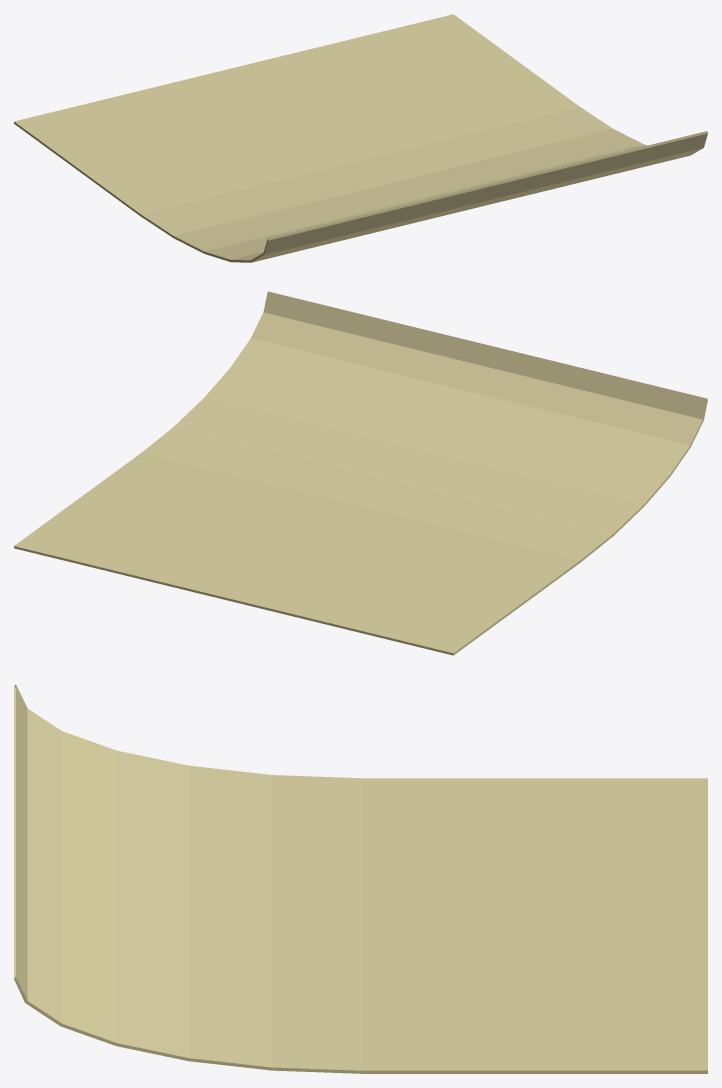
Rendered from note2.fbx.
The picture shows the model from 3 angles, top to bottom: view 1: azimuth 30°, elevation 25°; view 2: azimuth 150°, elevation 25°; view 3: azimuth 270°, elevation 25°; orthographic projection. The views are drawn at different scales.
Parts seen in each view (by area): view 1: Plane; view 2: Plane; view 3: Plane.
Boxes of the visible parts, x1,y1,x2,y2 form: Plane: [14, 14, 707, 262]; Plane: [14, 291, 707, 655]; Plane: [14, 684, 707, 1073].
Size of the model in its own units: 200 by 31 by 201.
